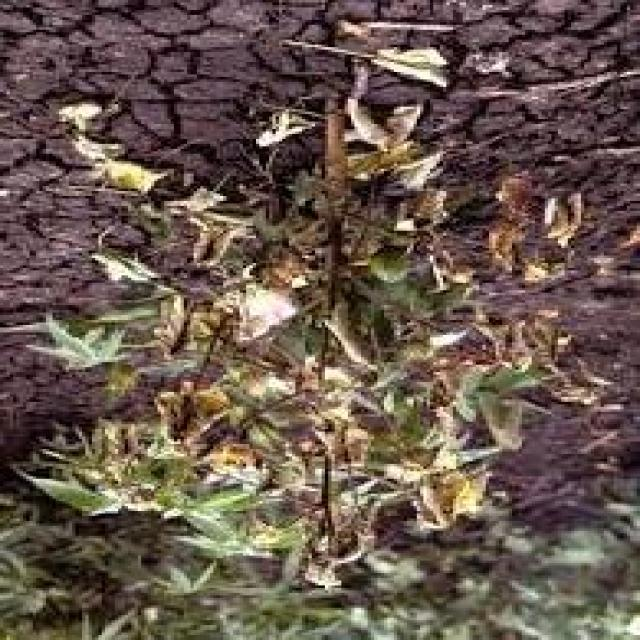Fusarium Wilt: (58, 37, 540, 616)
